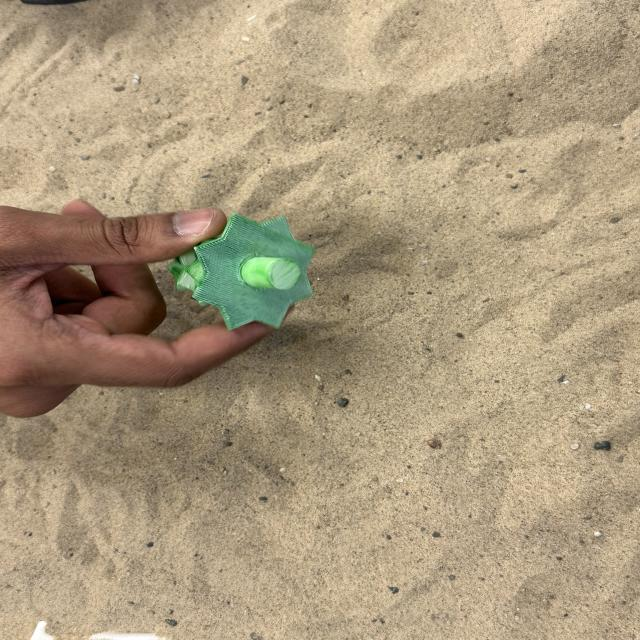tree: (167, 211, 316, 331)
